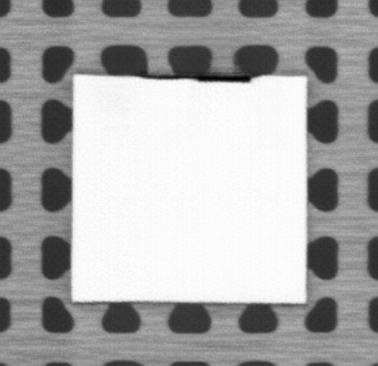DIE_BROKEN: (140, 72, 253, 83)
